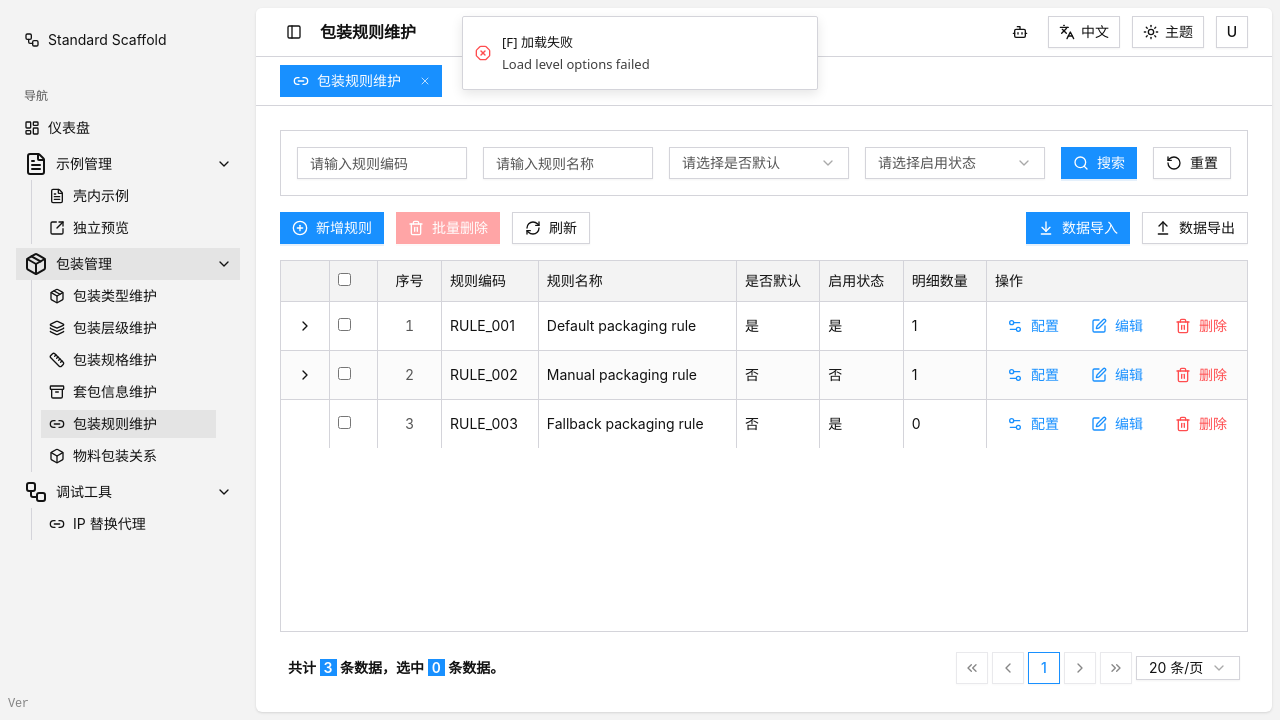
Test case: PackagingRulePage › shows in-form option load errors and disables submit when options fail to load
expect the text "RULE_001" is shown: met, box [442, 301, 538, 350]
Click the button "新增规则". click: (332, 228)
box: [280, 212, 384, 244]
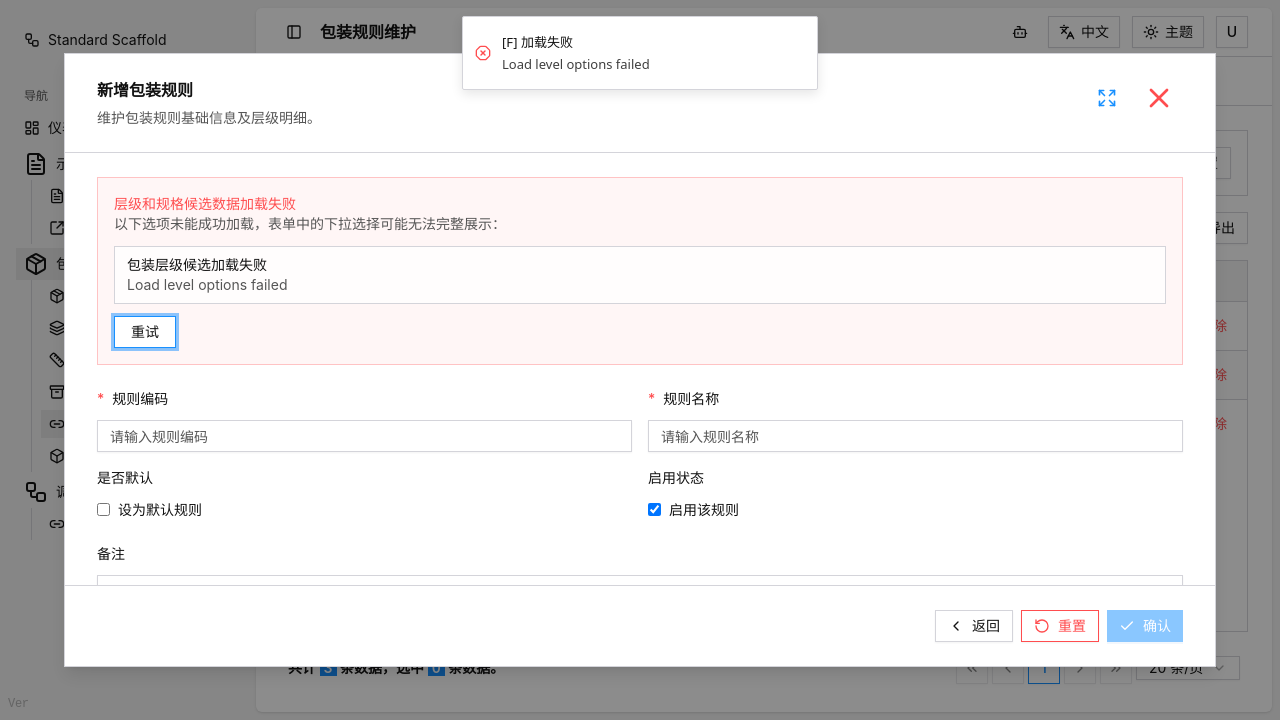
expect the text "包装层级候选加载失败" is shown: met, box [127, 256, 267, 273]
expect the text "Load level options failed" is shown: met, box [127, 276, 288, 293]
expect the button with test id "packaging-rule-form-submit" is disabled: met, box [1107, 610, 1183, 642]
